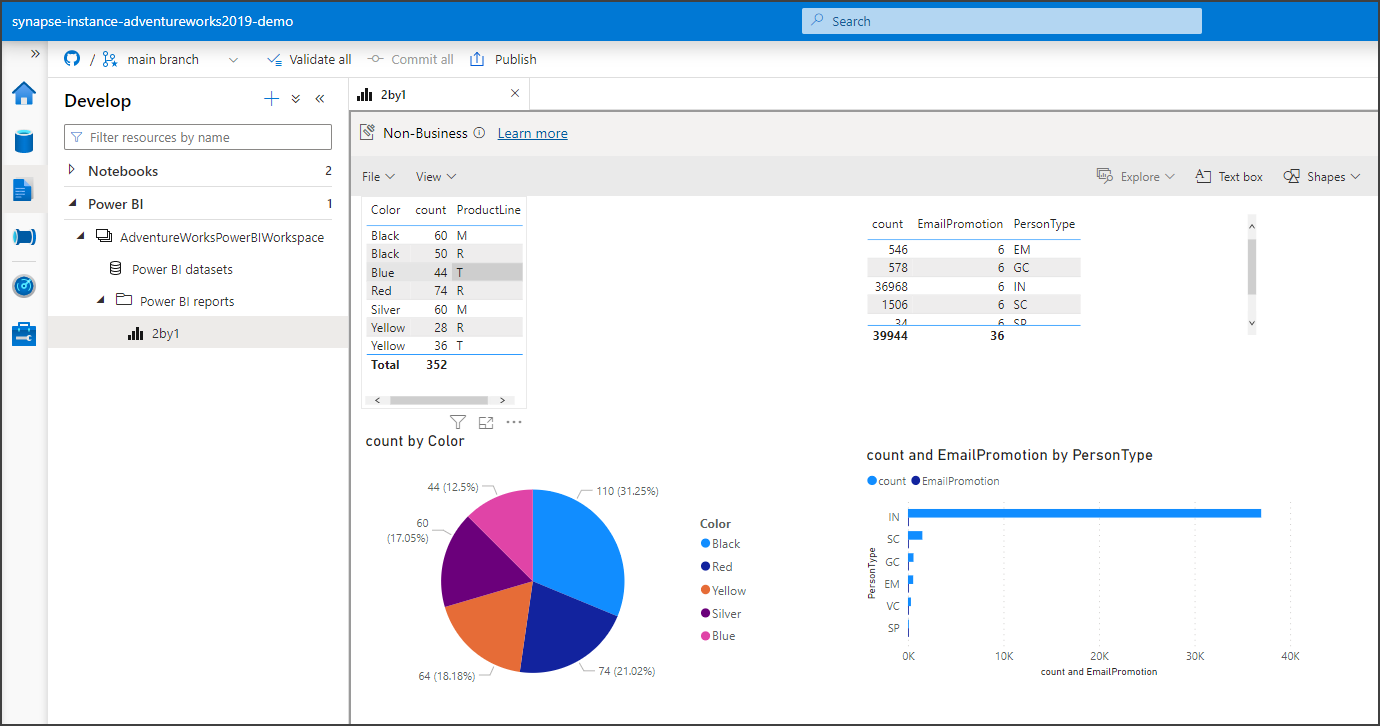

The dashboard page shown, as its layout file describes it:
{"tool":"powerbi","page":{"name":"Page 1","canvas":[1280,720],"ordinal":0},"visuals":[{"type":"tableEx","fields":{"Values":["Model ProductByColor.Color","Sum(Model ProductByColor.count)","Model ProductByColor.ProductLine"]},"box":[10.4,0,181.1,232.1],"z":0},{"type":"pieChart","fields":{"Category":["Model ProductByColor.Color"],"Y":["Sum(Model ProductByColor.count)"]},"box":[10.4,256,434,308],"z":1000},{"type":"tableEx","fields":{"Values":["Sum(Models PersonTypeByEmailPromotion.count)","Sum(Models PersonTypeByEmailPromotion.EmailPromotion)","Models PersonTypeByEmailPromotion.PersonType"]},"box":[555.7,15.6,434,149.9],"z":2000},{"type":"clusteredBarChart","fields":{"Y":["Sum(Models PersonTypeByEmailPromotion.count)","Sum(Models PersonTypeByEmailPromotion.EmailPromotion)"],"Category":["Models PersonTypeByEmailPromotion.PersonType"]},"box":[555.7,270.6,480.8,257],"z":2001}]}

Visuals, with their boxes on the page's 1280x720 design canvas (x1, y1, x2, y2). These are canvas units, not pixel positions in the 1380x726 screenshot, which may show the page scaled, cropped or inside an application window:
tableEx - Model ProductByColor.Color x Sum(Model ProductByColor.count): x1=10, y1=0, x2=192, y2=232
pieChart - Model ProductByColor.Color x Sum(Model ProductByColor.count): x1=10, y1=256, x2=444, y2=564
tableEx - Sum(Models PersonTypeByEmailPromotion.count) x Sum(Models PersonTypeByEmailPromotion.EmailPromotion): x1=556, y1=16, x2=990, y2=166
clusteredBarChart - Sum(Models PersonTypeByEmailPromotion.count) x Sum(Models PersonTypeByEmailPromotion.EmailPromotion): x1=556, y1=271, x2=1036, y2=528
